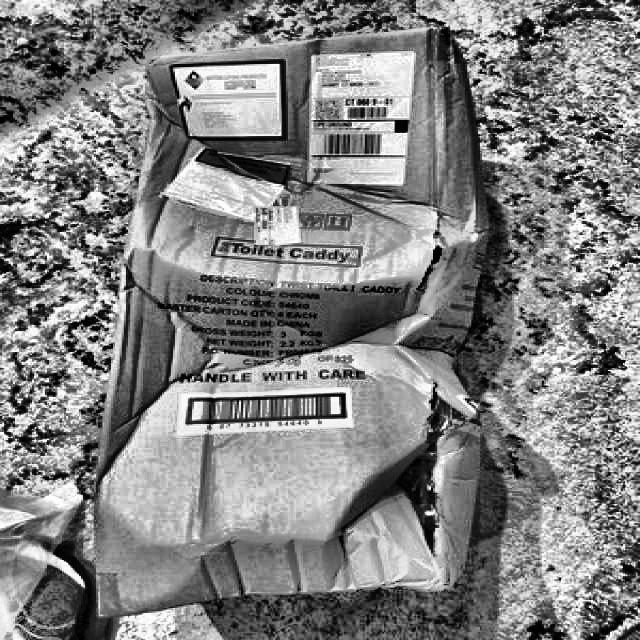box: (82, 17, 495, 631)
hole: (374, 402, 458, 556)
